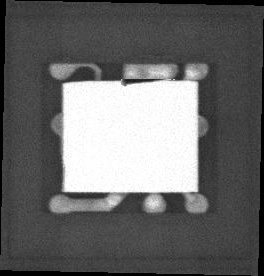DIE_BROKEN: (118, 75, 167, 87)
